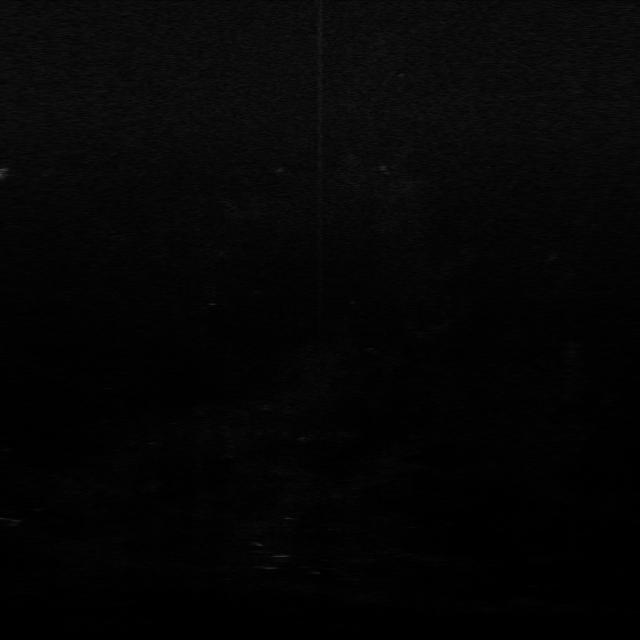rov: (0, 164, 12, 183)
